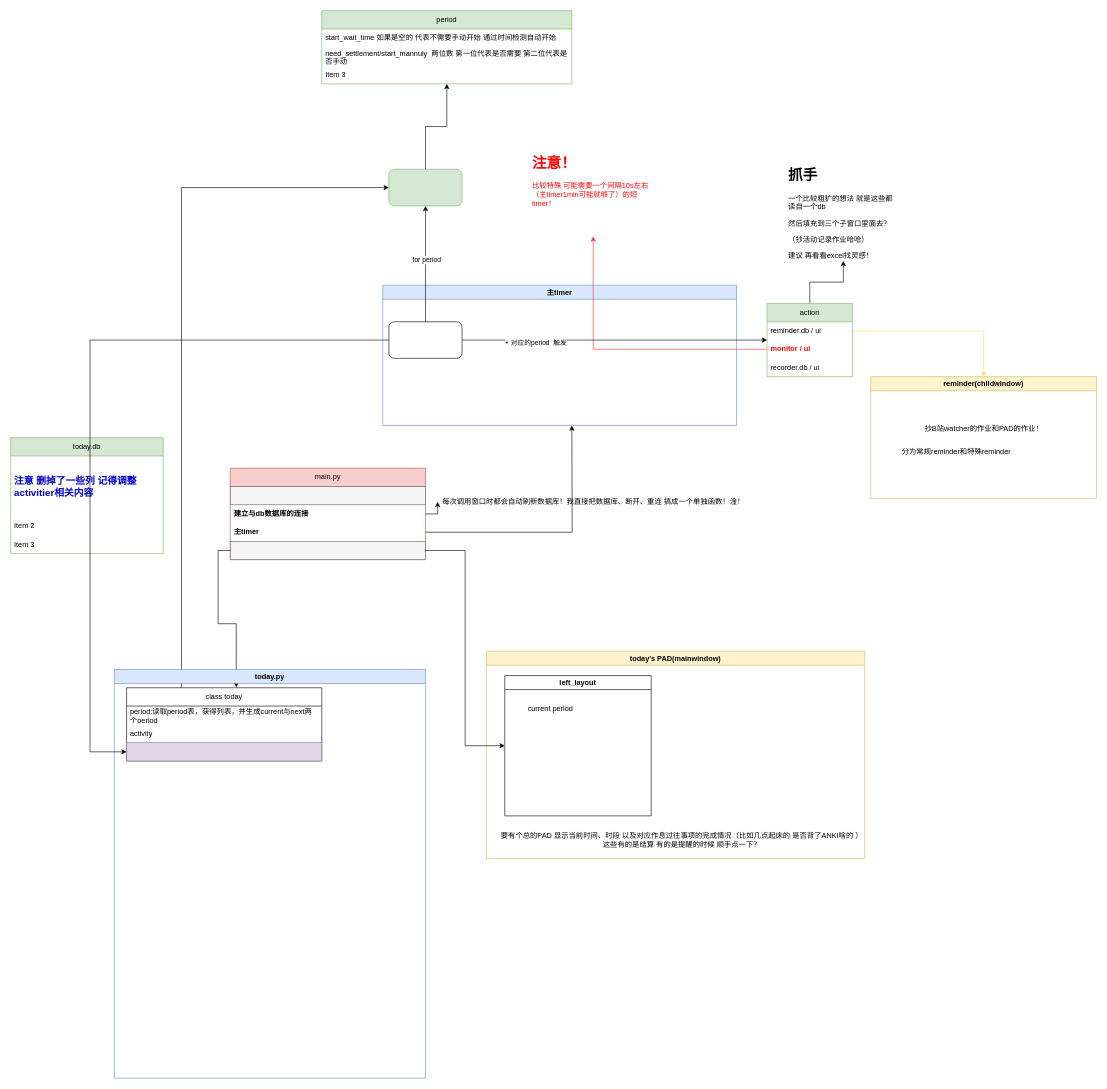
Image size: 1107x1089. Some labels were removed from this diagram. The centre of each missing label's shape, as x and y in pixels:
check period(): [224,751]
check_period（）: [425,339]
generate：today 实例: [327,550]
table: period 含基线开始时间 以及判定开始方式等？: [425,187]
实例化各个子窗口: [327,495]
